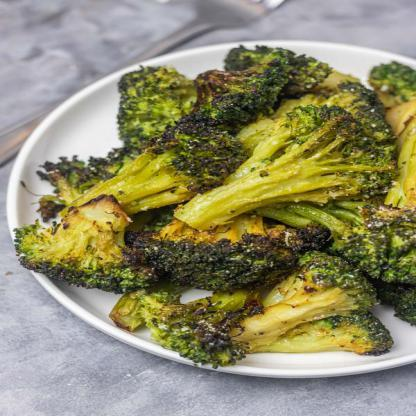broccoli: (13, 44, 415, 369)
